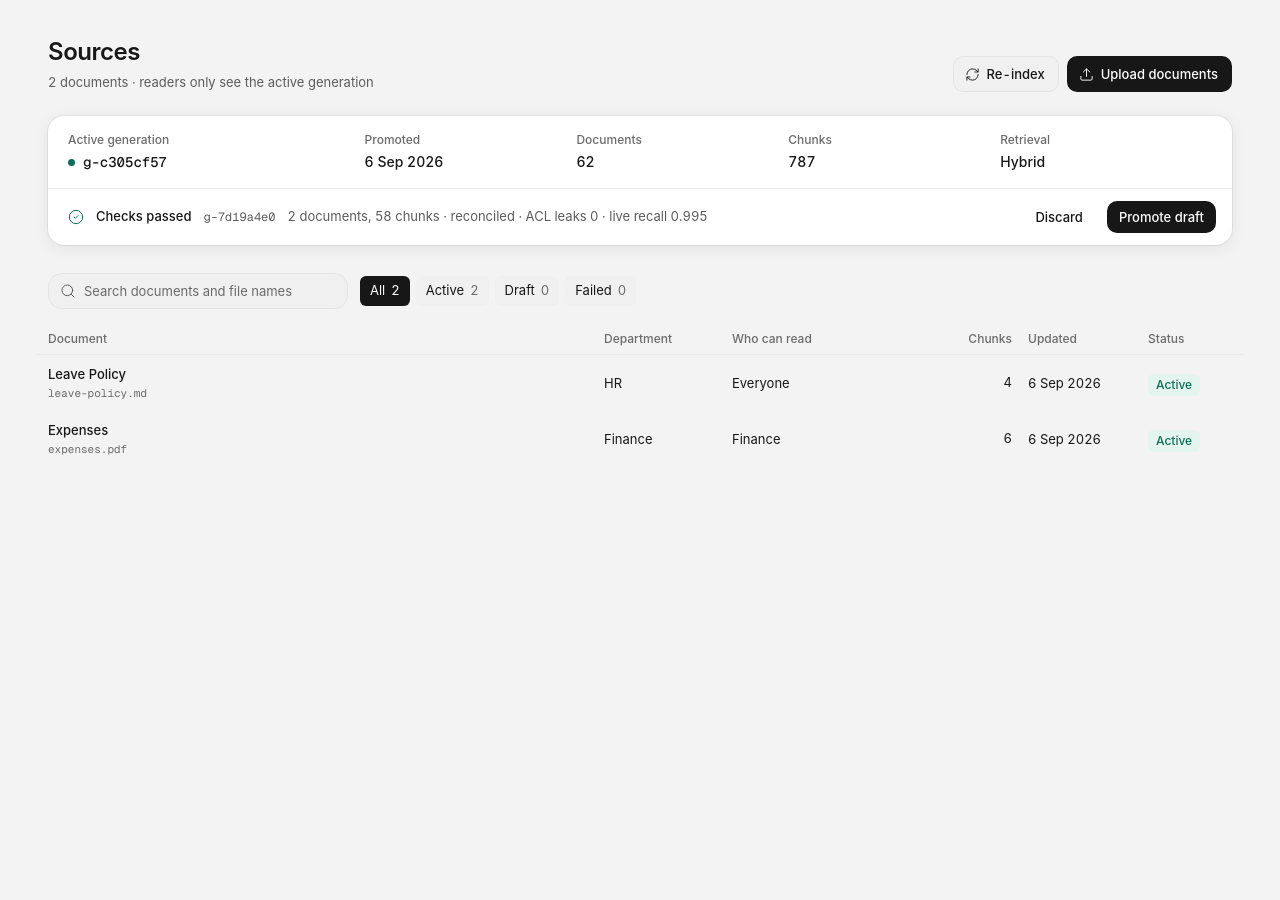
Test case: SourcesWorkspace promote and discard › keeps the draft and shows Brain's message when promote is refused
Click the button "Promote draft" at (1161,217), box [1107,201,1216,233]
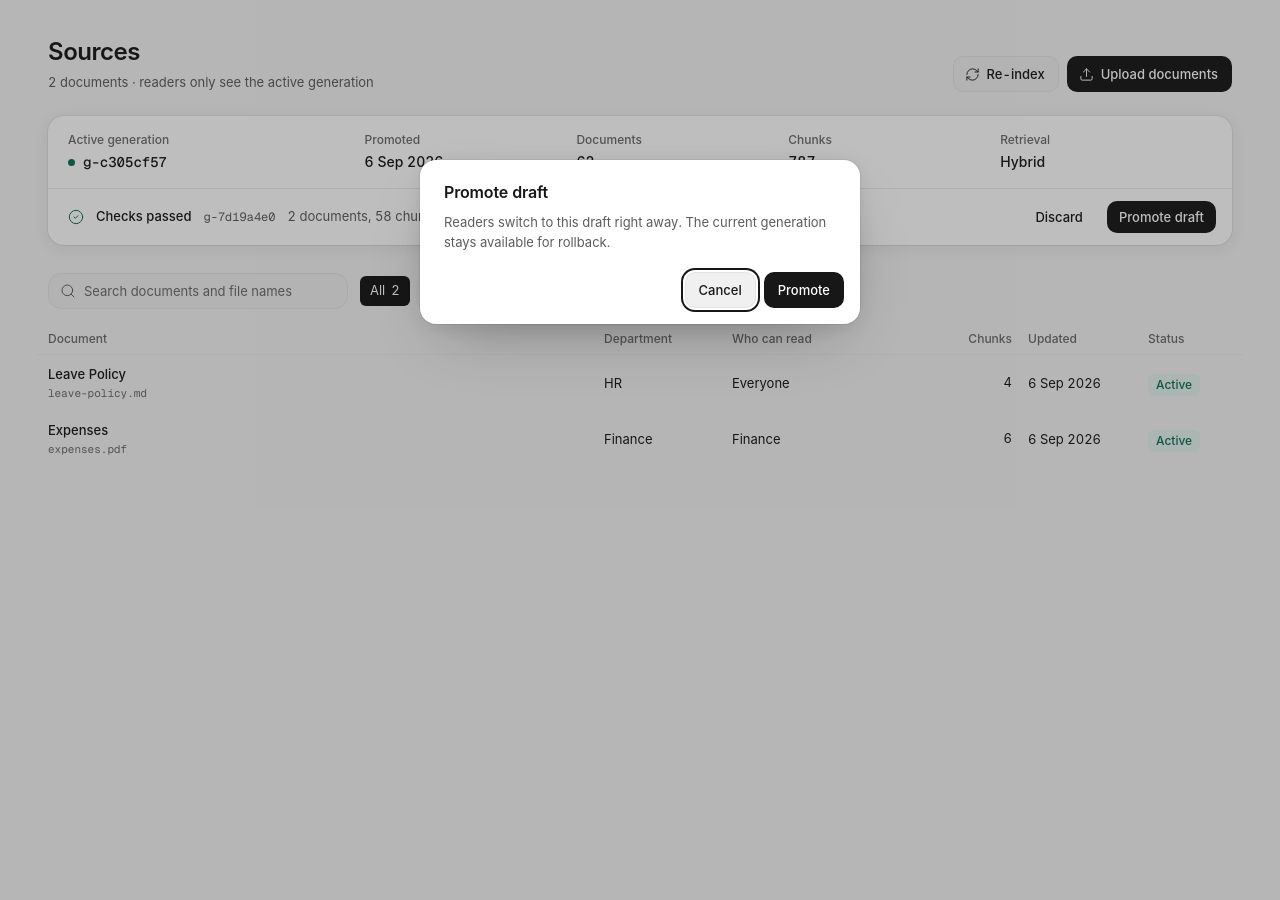
Click the button "Promote" at (804,290), box [764,272,844,308]
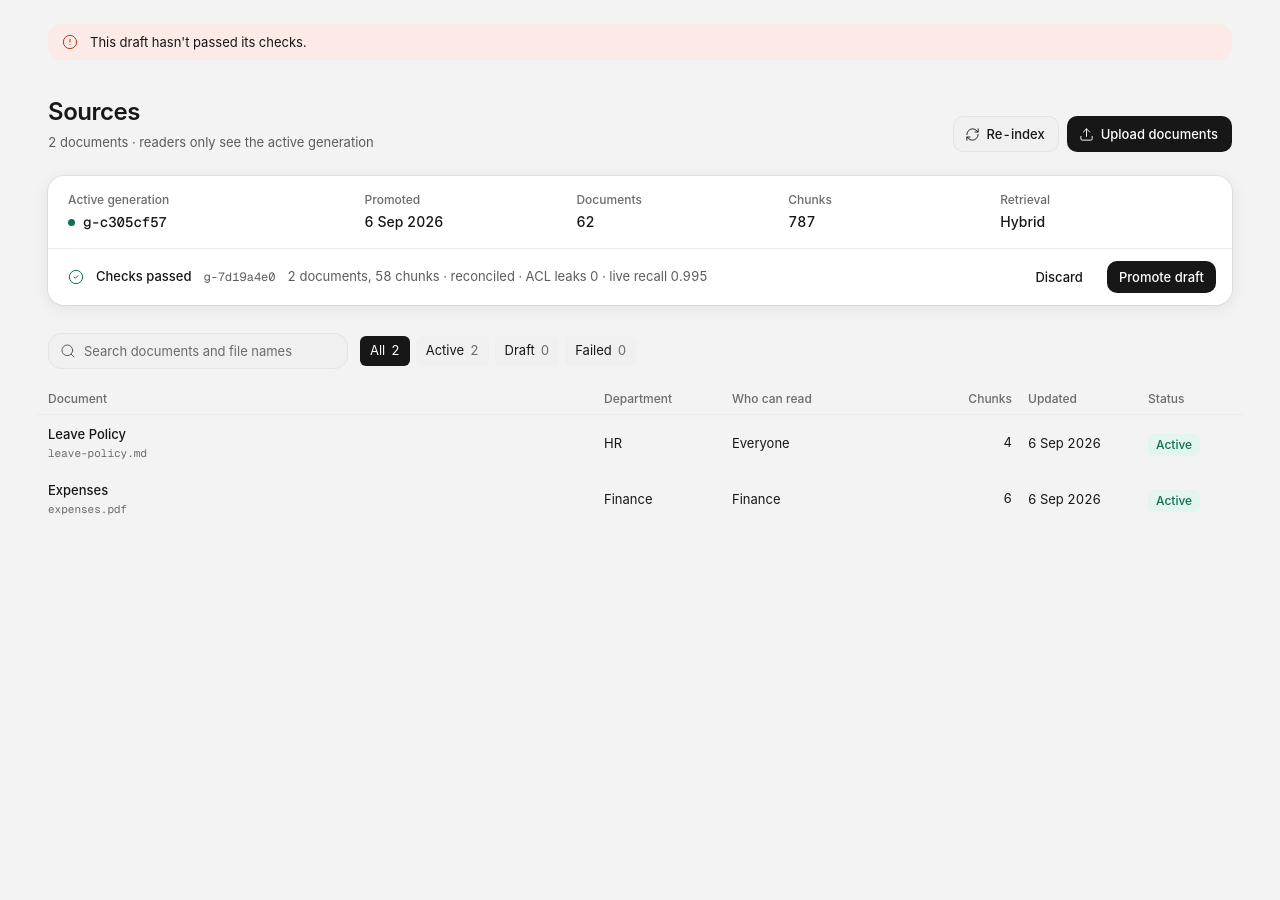
Expected: the text "Checks passed" is shown, [96,267,192,287]
Expected: the message reads "This draft hasn't passed its checks.", [90,34,306,50]
